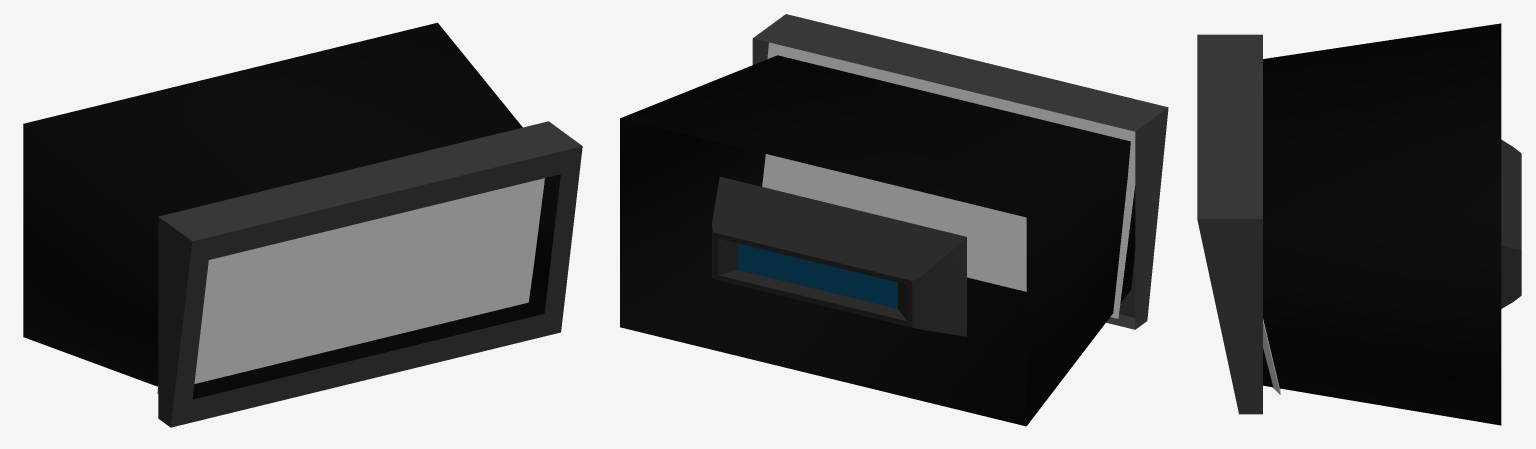
The model's file is TankDriverVisor2x1.fbx.
3 renders of one model, left to right at view 1: azimuth 30°, elevation 25°; view 2: azimuth 150°, elevation 25°; view 3: azimuth 270°, elevation 25°, orthographic. The views are drawn at different scales.
Visible parts, largest first — view 1: Cube.002, Cube.001; view 2: Cube.002, Cube.001; view 3: Cube.002, Cube.001.
Boxes of the visible parts, left/top/right/bottom form: Cube.002: left=23, top=22, right=582, bottom=427; Cube.001: left=157, top=178, right=544, bottom=393; Cube.002: left=620, top=14, right=1168, bottom=426; Cube.001: left=762, top=42, right=1135, bottom=318; Cube.002: left=1197, top=23, right=1521, bottom=425; Cube.001: left=1263, top=319, right=1280, bottom=394.
Size of the model in its own units: 2 by 1.35 by 1.
